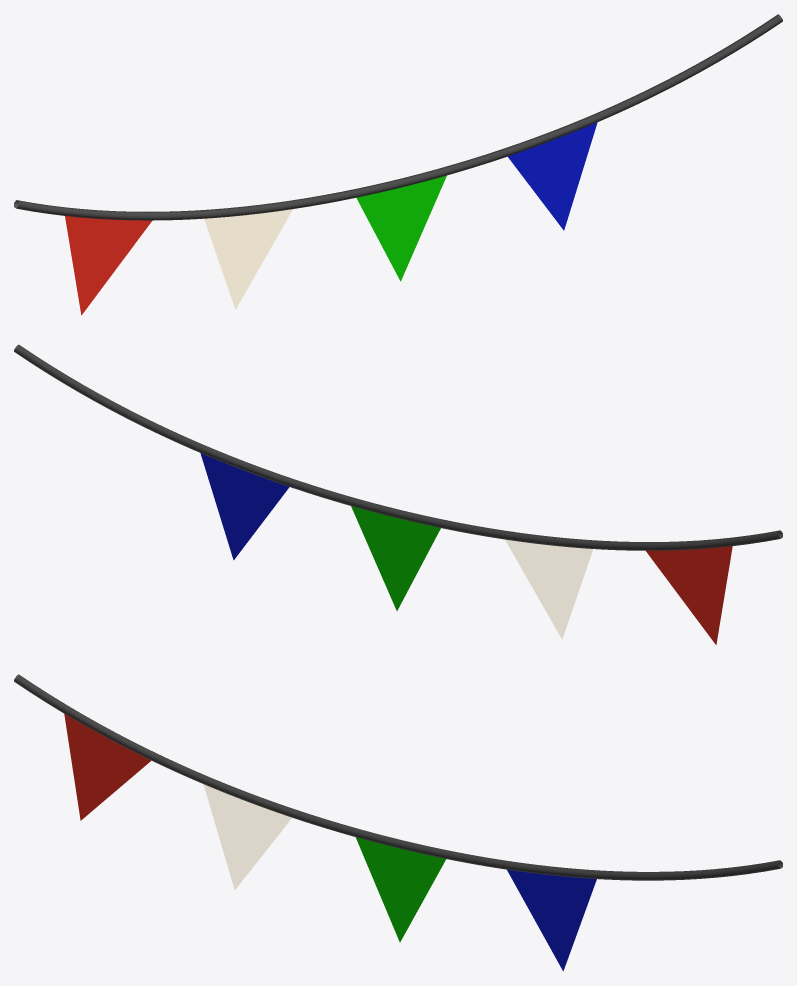
File: Triangle.fbx
3 views of the same model, one above another, from view 1: azimuth 30°, elevation 25°; view 2: azimuth 150°, elevation 25°; view 3: azimuth 330°, elevation 25° (orthographic).
Visible parts, largest first — view 1: bandeirinhas-cable, Plane.002, Plane.004, Plane.001, Plane.003; view 2: bandeirinhas-cable, Plane.004, Plane.002, Plane.001, Plane.003; view 3: bandeirinhas-cable, Plane.001, Plane.002, Plane.004, Plane.003.
Boxes of the visible parts, left/top/right/bottom form: bandeirinhas-cable: left=14, top=14, right=782, bottom=220; Plane.002: left=356, top=175, right=446, bottom=281; Plane.004: left=65, top=216, right=151, bottom=315; Plane.001: left=508, top=122, right=597, bottom=230; Plane.003: left=205, top=210, right=291, bottom=308; bandeirinhas-cable: left=14, top=344, right=782, bottom=550; Plane.004: left=646, top=546, right=732, bottom=644; Plane.002: left=351, top=506, right=440, bottom=610; Plane.001: left=200, top=453, right=289, bottom=560; Plane.003: left=506, top=540, right=592, bottom=637; bandeirinhas-cable: left=14, top=674, right=782, bottom=880; Plane.001: left=507, top=869, right=596, bottom=971; Plane.002: left=356, top=837, right=446, bottom=942; Plane.004: left=64, top=714, right=151, bottom=820; Plane.003: left=204, top=785, right=291, bottom=888.
Bounding box in the file's own units: 401 × 87.11 × 4.
